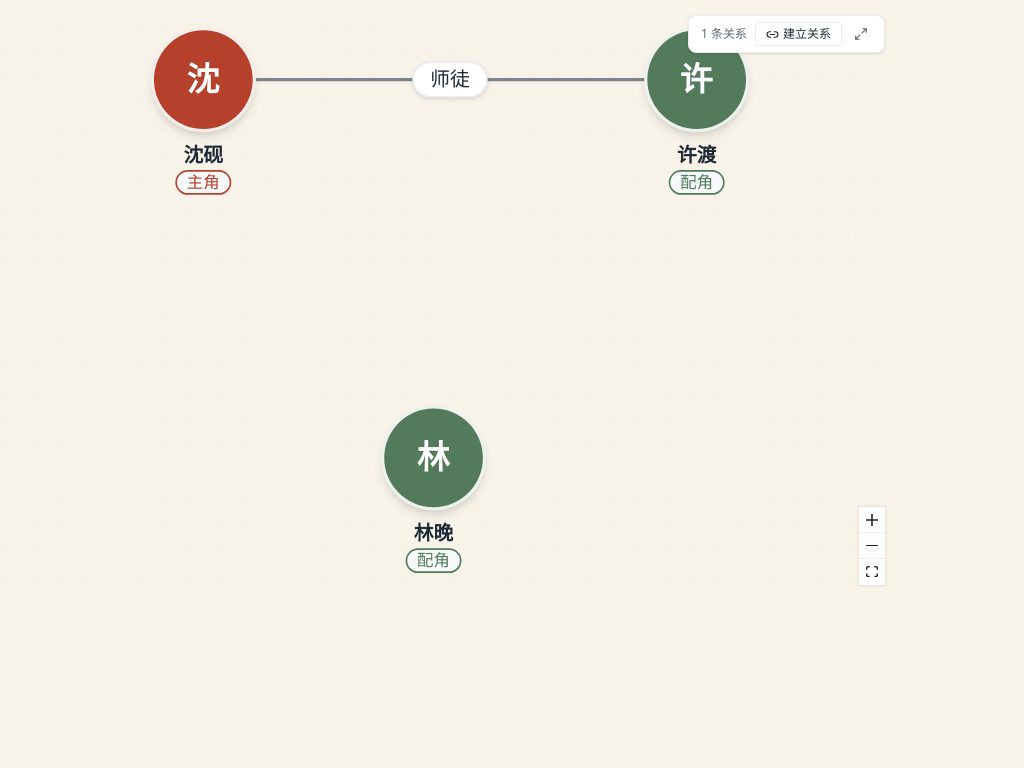
relationship canvas › opens the existing relationship when the same pair is connected twice
Expected: the number of elements with test id "relationship-graph-node" is 3, [151,27,256,194]; [644,27,749,194]; [381,405,486,572]
Expected: the number of buttons with test id "relationship-edge-chip" is 1, [412,62,488,98]
Click the button with test id "relationship-connect-mode-button": click(798, 34) [755,22,842,46]
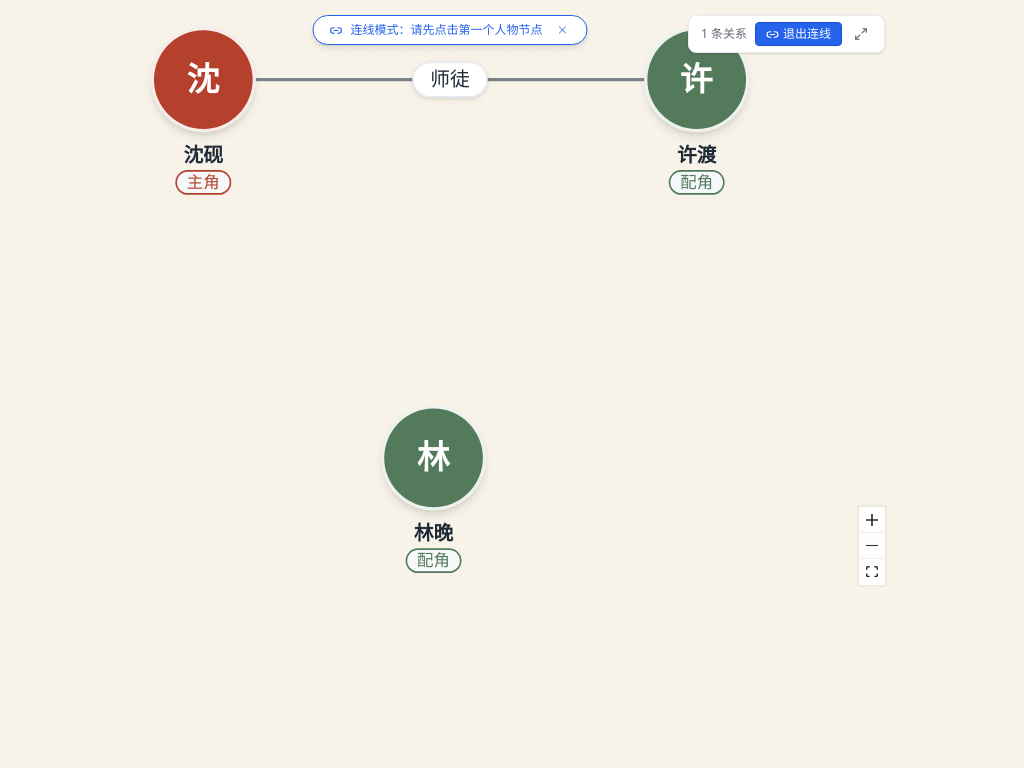
Click the element with test id "relationship-graph-node" showing "沈 沈砚 主角": click(203, 110) [151,27,256,194]
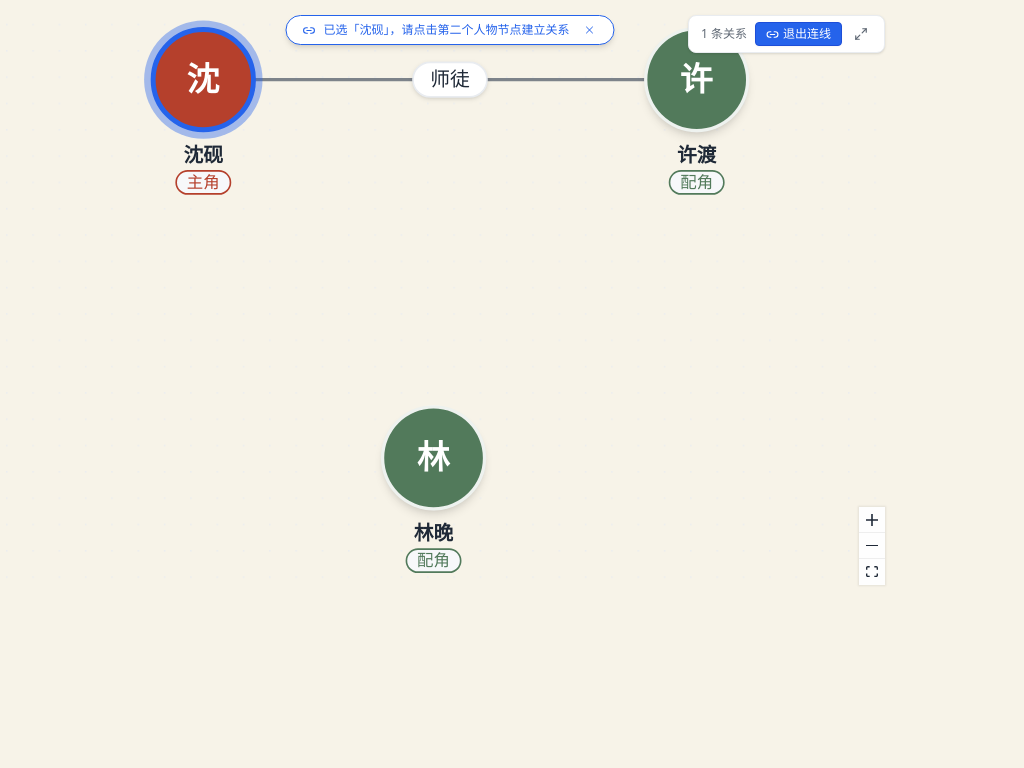
Click the element with test id "relationship-graph-node" showing "许 许渡 配角": click(697, 110) [644,27,749,194]
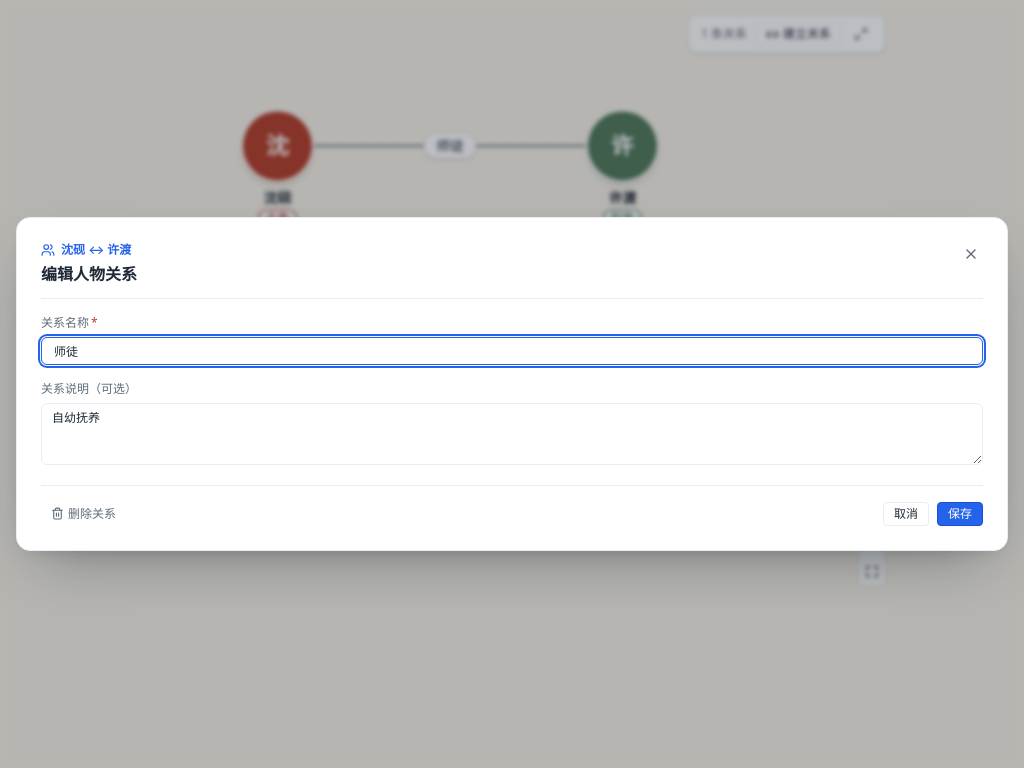
Now the dialog with test id "relationship-modal" is shown, box [16,217,1008,551]
Now the text "编辑人物关系" is shown, box [41,262,137,286]
Now the field with test id "relationship-name-input" holds "师徒", box [41,337,983,365]
